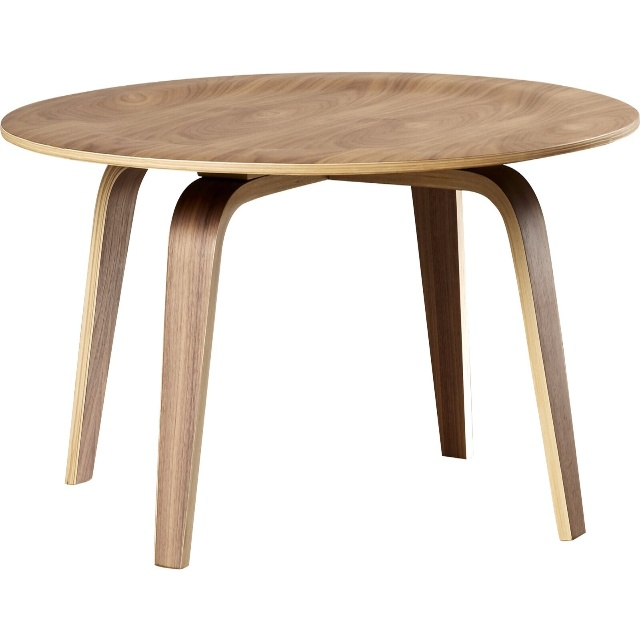obstacle: (2, 73, 638, 568)
